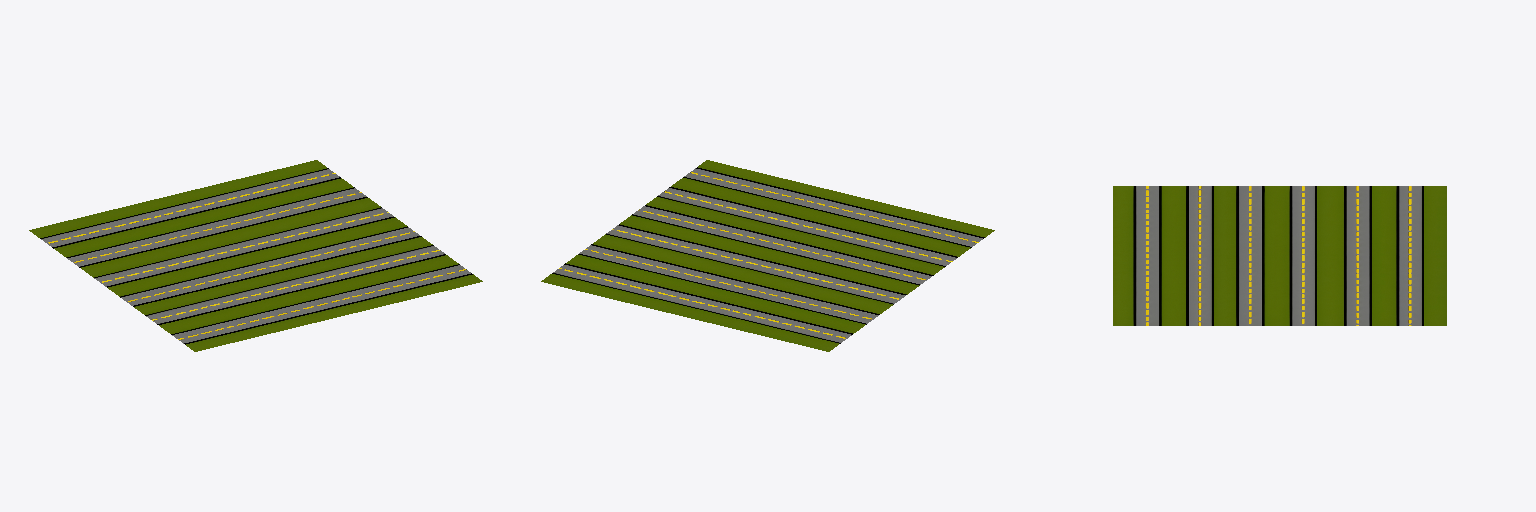
3 views of the same model, side by side, from view 1: azimuth 30°, elevation 25°; view 2: azimuth 150°, elevation 25°; view 3: azimuth 270°, elevation 25° (orthographic).
Parts seen in each view (by area): view 1: Plane; view 2: Plane; view 3: Plane.
Part boxes in pixels (x1,y1,x2,y2): Plane: (29,160,482,351); Plane: (541,160,994,351); Plane: (1113,186,1446,325).
Size of the model in its own units: 218 by 0 by 218.
1 materials, 1 textured.